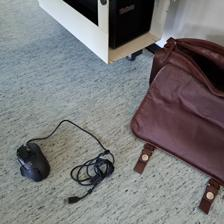mouse: (15, 141, 51, 182)
